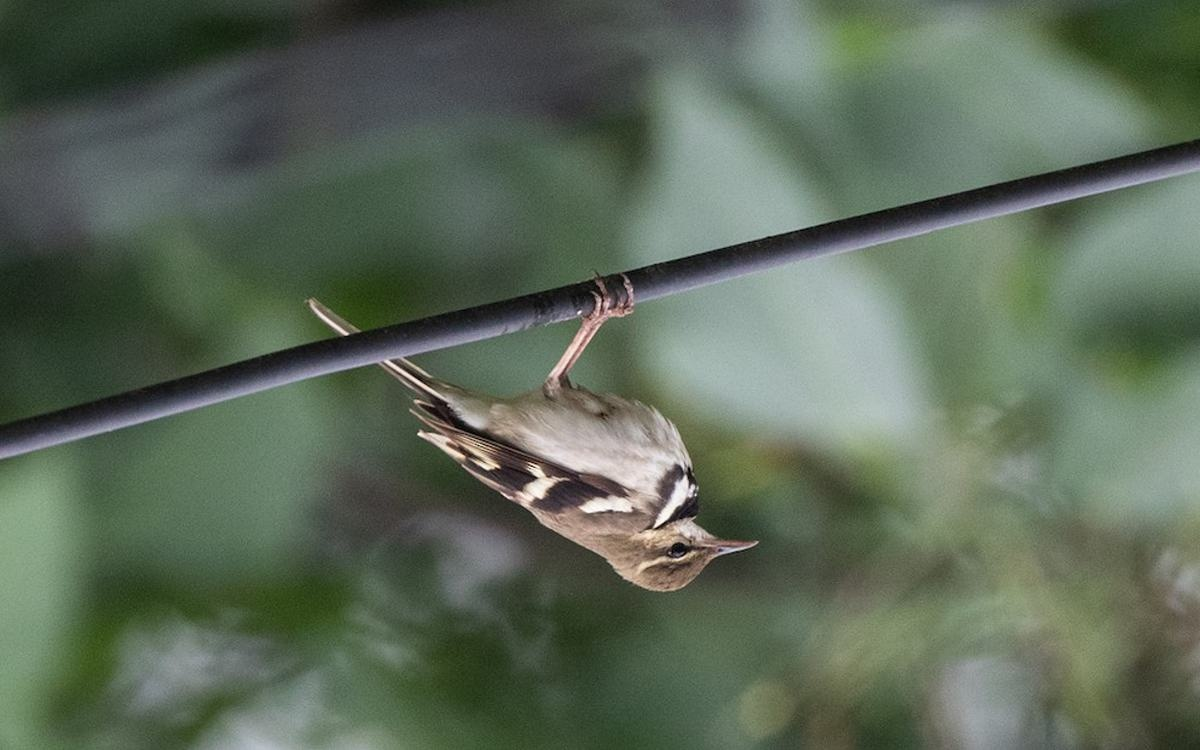wagtail: (361, 295, 746, 598)
